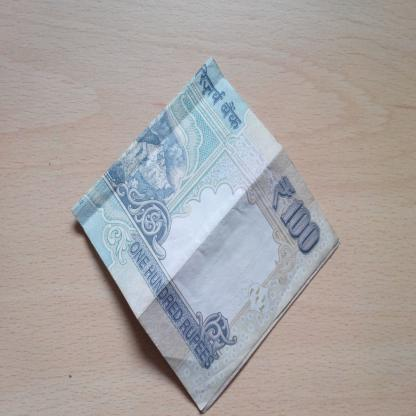Old100Back: (71, 54, 339, 416)
